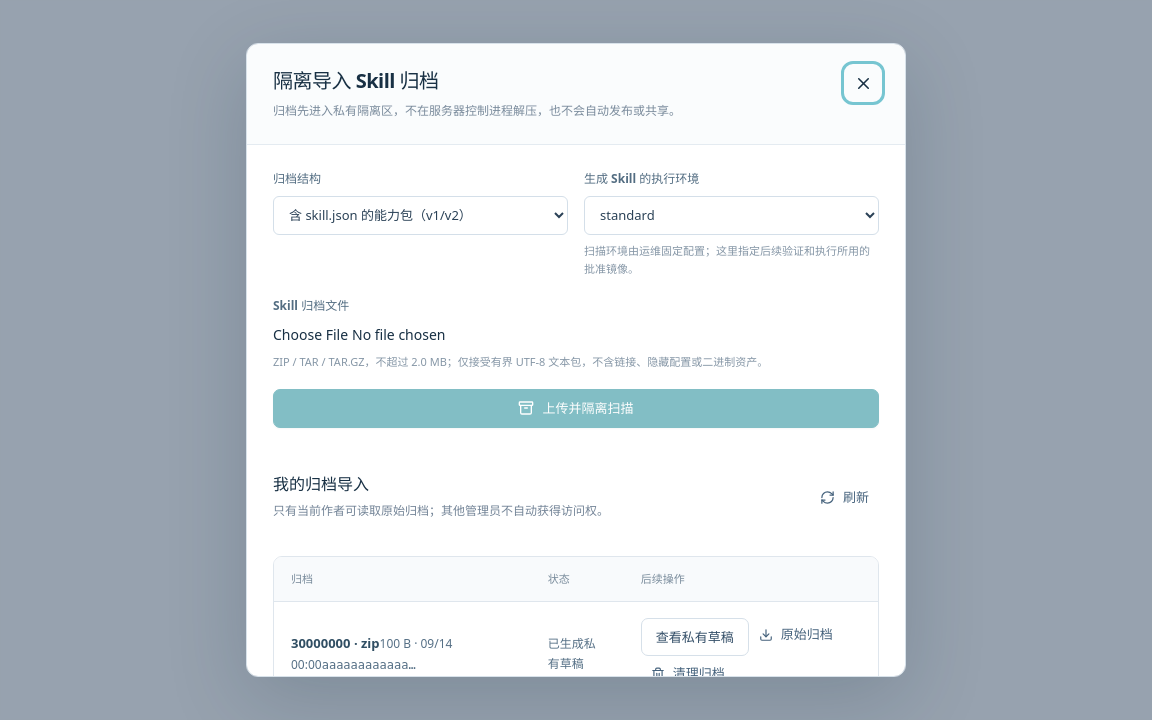
it: requires explicit raw-archive cleanup confirmation and never deletes the generated Skill
Click the button "清理归档" at (688, 674), box x1=641 y1=656 x2=735 y2=691
(page scrolled)
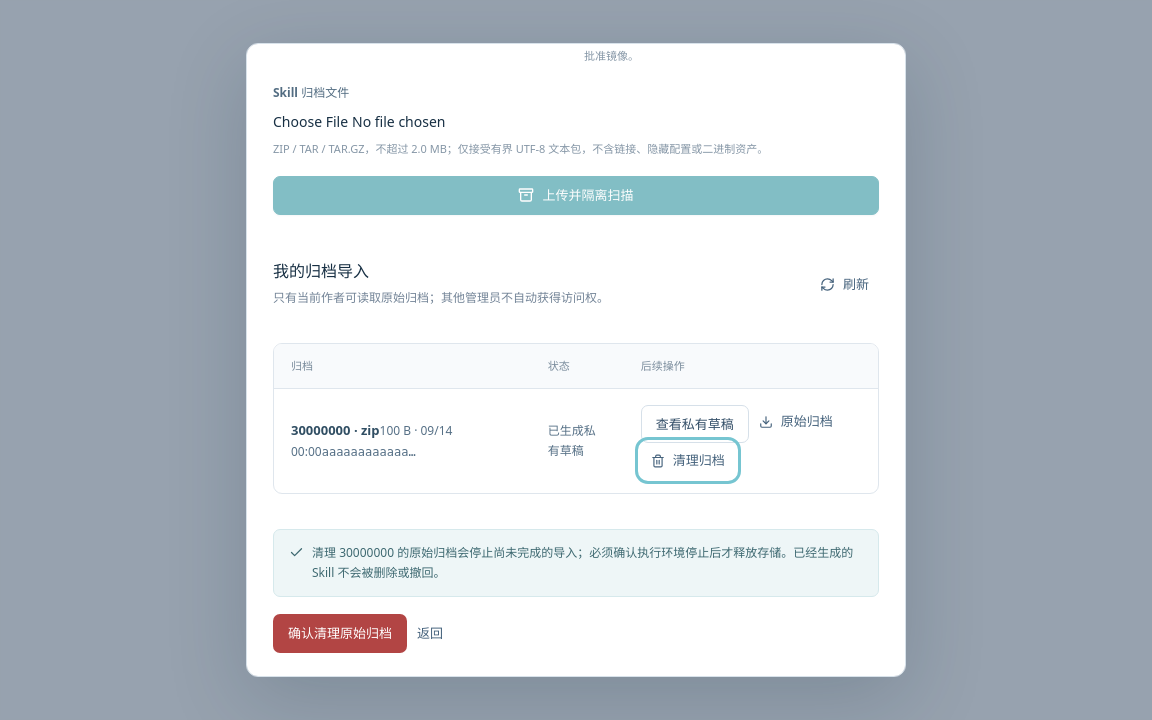
Result: the text "已经生成的 Skill 不会被删除或撤回" is shown at x1=312 y1=544 x2=853 y2=581
Click the button "确认清理原始归档" at (340, 633), box x1=273 y1=614 x2=407 y2=653
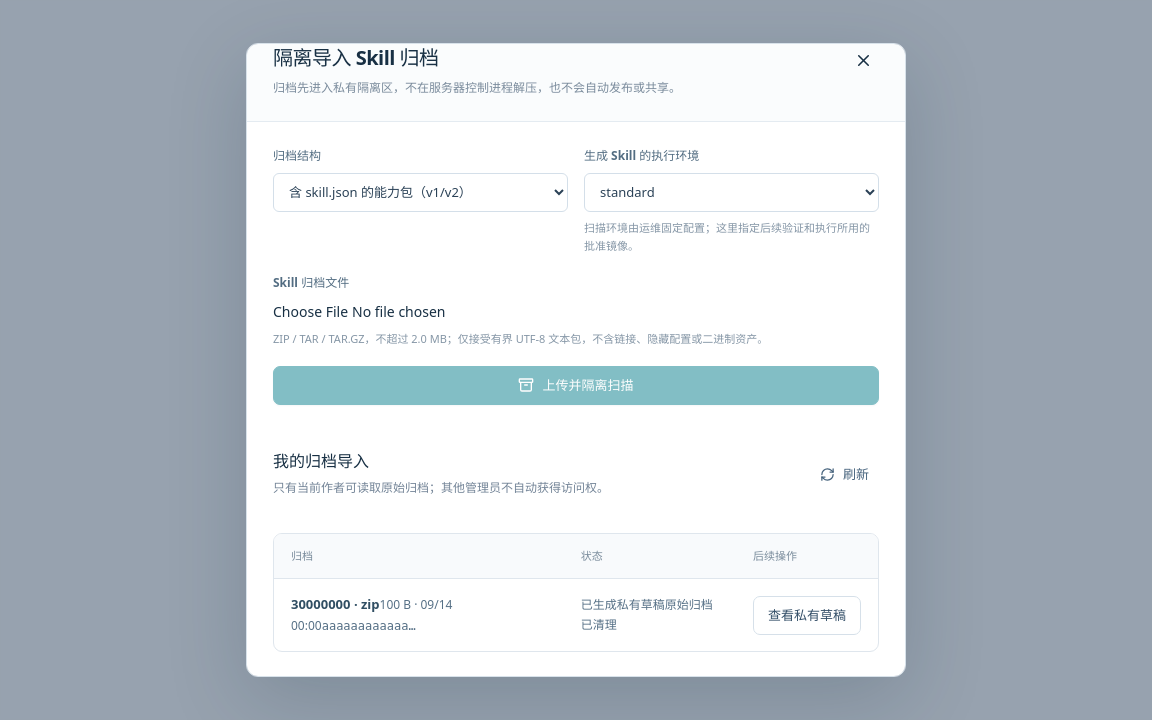
Result: the text "原始归档已清理" is shown at x1=581 y1=596 x2=713 y2=633
